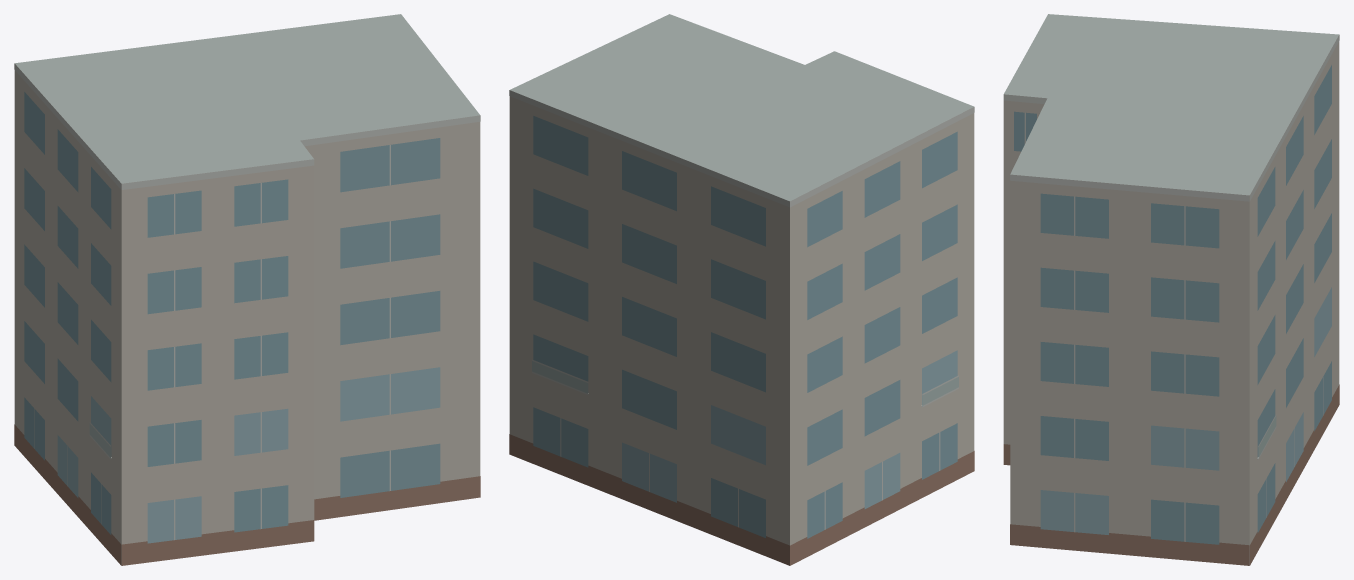
File: survey-upis-32747433.glb
3 views of the same model, side by side, from view 1: azimuth 30°, elevation 25°; view 2: azimuth 150°, elevation 25°; view 3: azimuth 270°, elevation 25° (orthographic). The views are drawn at different scales.
Parts seen in each view (by area): view 1: survey-upis-32747433.tmp; view 2: survey-upis-32747433.tmp; view 3: survey-upis-32747433.tmp.
Part boxes in pixels (<box>): survey-upis-32747433.tmp: <box>14,14,480,565</box>; survey-upis-32747433.tmp: <box>509,14,974,565</box>; survey-upis-32747433.tmp: <box>1003,14,1339,565</box>.
Size of the model in its own units: 15.35 by 14.6 by 12.01.
